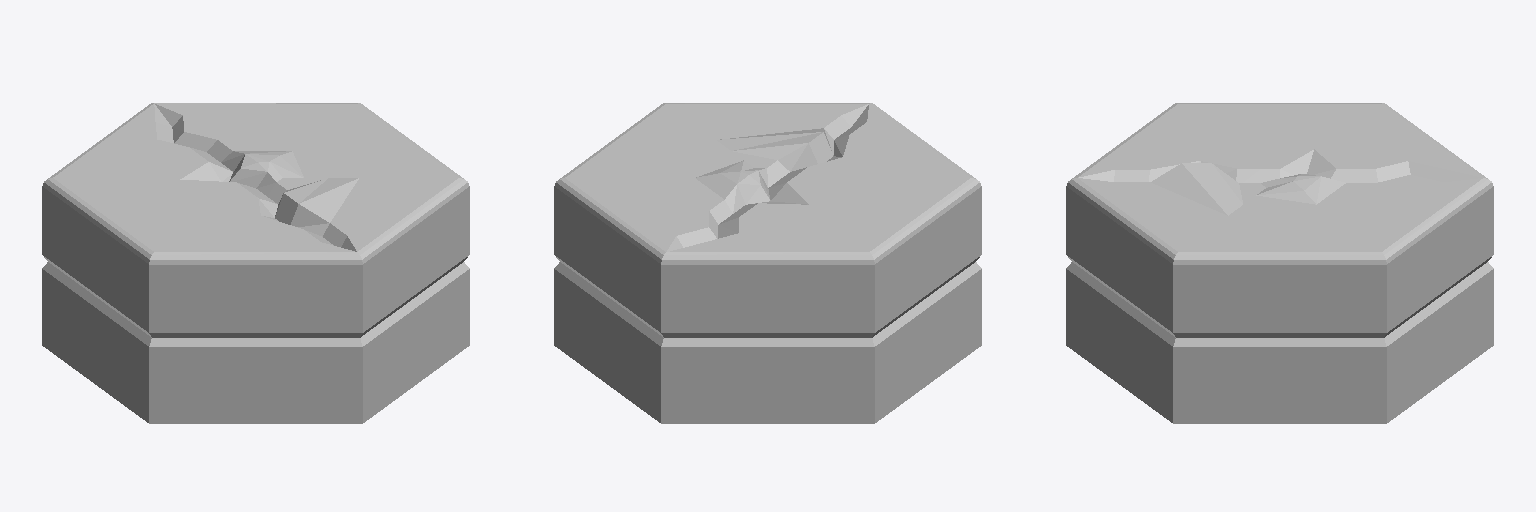
File: hex_sand_transitionA.obj
3 views of the same model, side by side, from view 1: azimuth 30°, elevation 25°; view 2: azimuth 150°, elevation 25°; view 3: azimuth 270°, elevation 25° (orthographic).
Visible parts, largest first — view 1: hex_sand_transitionA_Cylinder.817; view 2: hex_sand_transitionA_Cylinder.817; view 3: hex_sand_transitionA_Cylinder.817.
Boxes of the visible parts, x1=… form: hex_sand_transitionA_Cylinder.817: x1=42, y1=103, x2=469, y2=423; hex_sand_transitionA_Cylinder.817: x1=554, y1=103, x2=981, y2=423; hex_sand_transitionA_Cylinder.817: x1=1066, y1=103, x2=1493, y2=423.
Size of the model in its own units: 2 by 1.07 by 2.31.